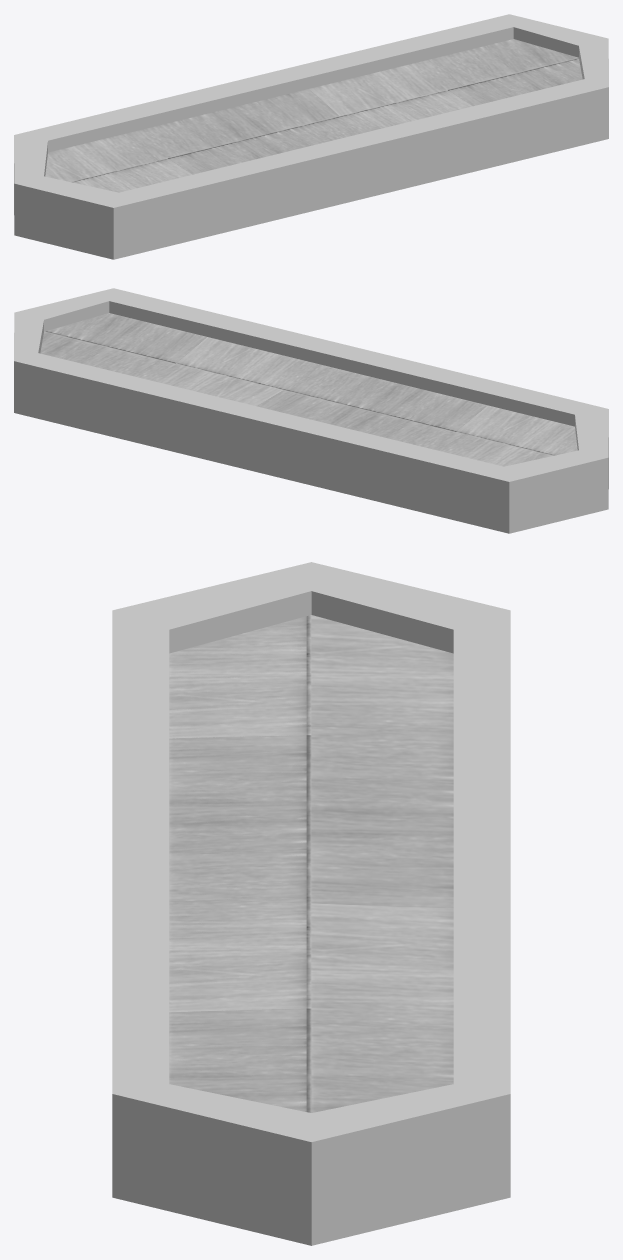
Rendered from Thing_5.obj.
3 renders of one model, top to bottom at view 1: azimuth 30°, elevation 25°; view 2: azimuth 150°, elevation 25°; view 3: azimuth 270°, elevation 25°, orthographic. The views are drawn at different scales.
Visible parts, largest first — view 1: Mesh64_Group70_Group67_Model, Mesh65_Group71_Group67_Model; view 2: Mesh64_Group70_Group67_Model, Mesh65_Group71_Group67_Model; view 3: Mesh65_Group71_Group67_Model, Mesh64_Group70_Group67_Model.
Boxes of the visible parts, bbox=[...] form: Mesh64_Group70_Group67_Model: bbox=[14, 14, 608, 259]; Mesh65_Group71_Group67_Model: bbox=[45, 39, 582, 192]; Mesh64_Group70_Group67_Model: bbox=[14, 288, 608, 533]; Mesh65_Group71_Group67_Model: bbox=[40, 313, 577, 466]; Mesh65_Group71_Group67_Model: bbox=[169, 615, 453, 1112]; Mesh64_Group70_Group67_Model: bbox=[112, 562, 510, 1245].
Bounding box in the file's own units: 6 × 0.5 × 1.74.
2 materials, 1 textured.
